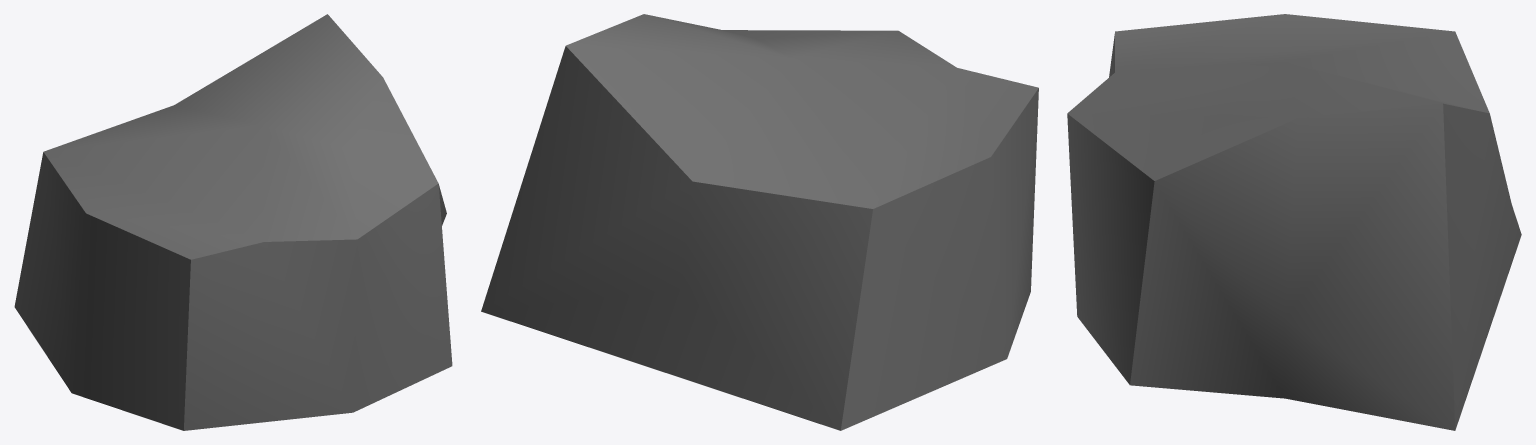
Rendered from Stone001.fbx.
3 views of the same model, side by side, from view 1: azimuth 30°, elevation 25°; view 2: azimuth 150°, elevation 25°; view 3: azimuth 270°, elevation 25° (orthographic). The views are drawn at different scales.
Parts seen in each view (by area): view 1: Box057; view 2: Box057; view 3: Box057.
Boxes of the visible parts, bbox=[...] form: Box057: bbox=[14, 14, 452, 430]; Box057: bbox=[481, 14, 1038, 430]; Box057: bbox=[1067, 14, 1521, 430].
Bounding box in the file's own units: 66.08 × 40 × 57.21.
1 material, 1 textured.
